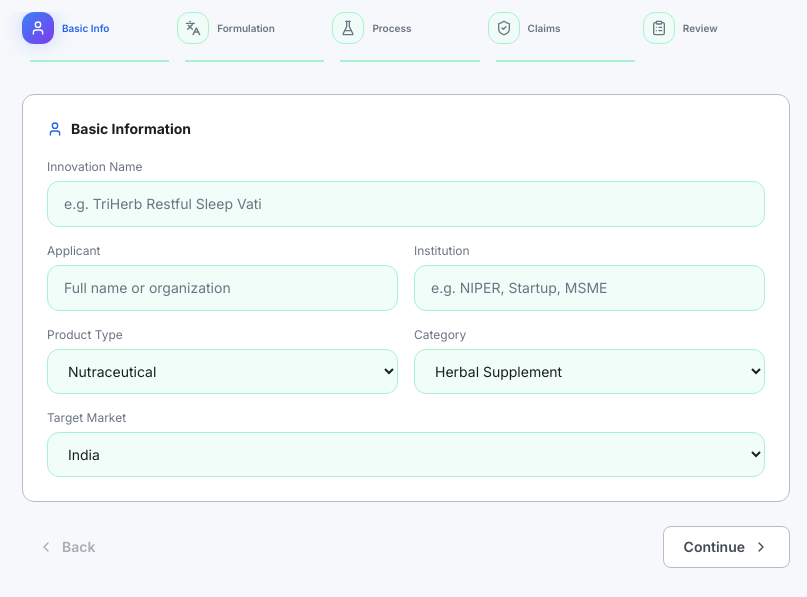
Scenario: InnovationPassportForm claim firewall › clearing all claims leaves the firewall safe
This screenshot has width=807, height=597.
Click the button "Continue". click: [726, 547]
box: [663,526,790,568]
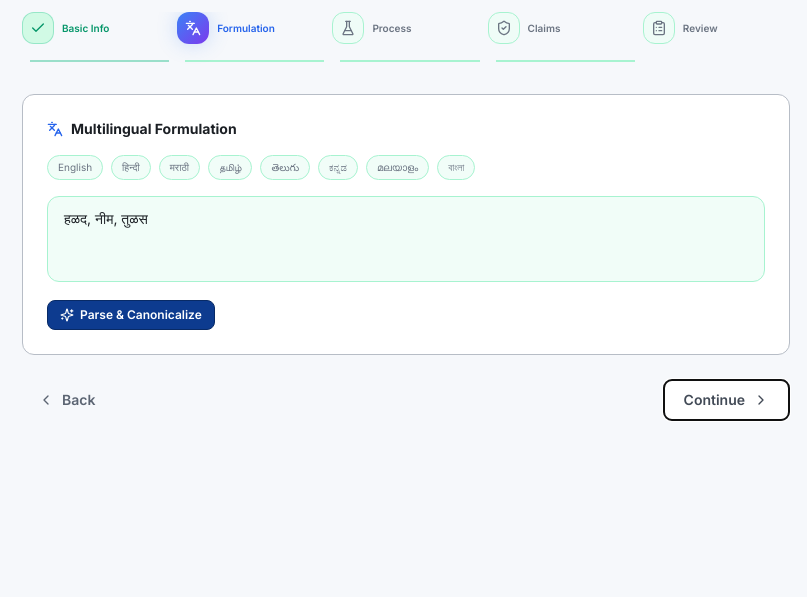
Click the button "Continue". click: [726, 400]
box: [663,379,790,421]
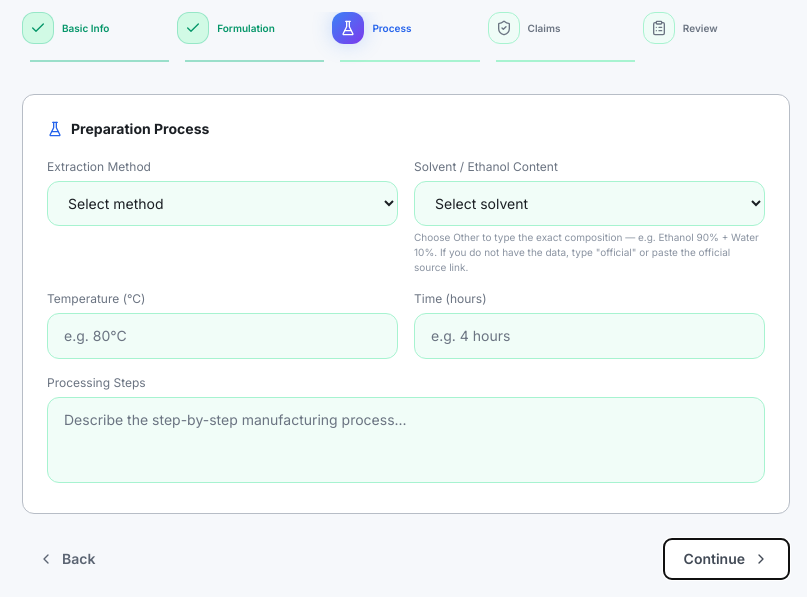
Click the button "Continue". click: [726, 559]
box: [663,538,790,580]
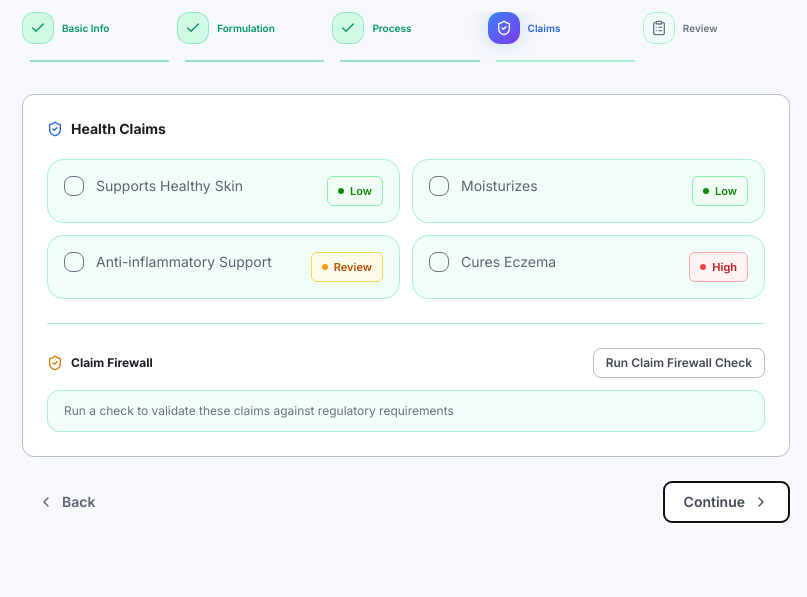
Click the button "Run Claim Firewall Check". click: [679, 363]
box: [593,348,765,378]
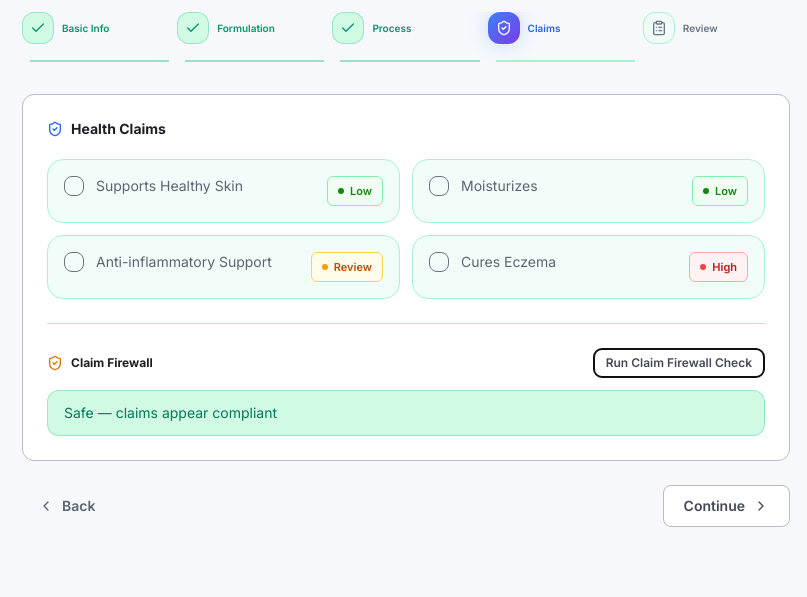
Now the text "Safe — claims appear compliant" is shown, box [47,390,765,436]
